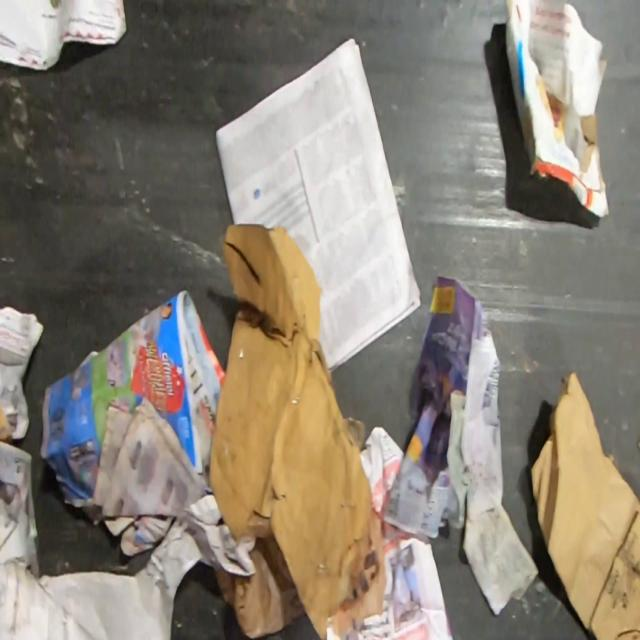cardboard: (206, 221, 388, 640), (528, 368, 640, 640), (504, 0, 610, 219)
